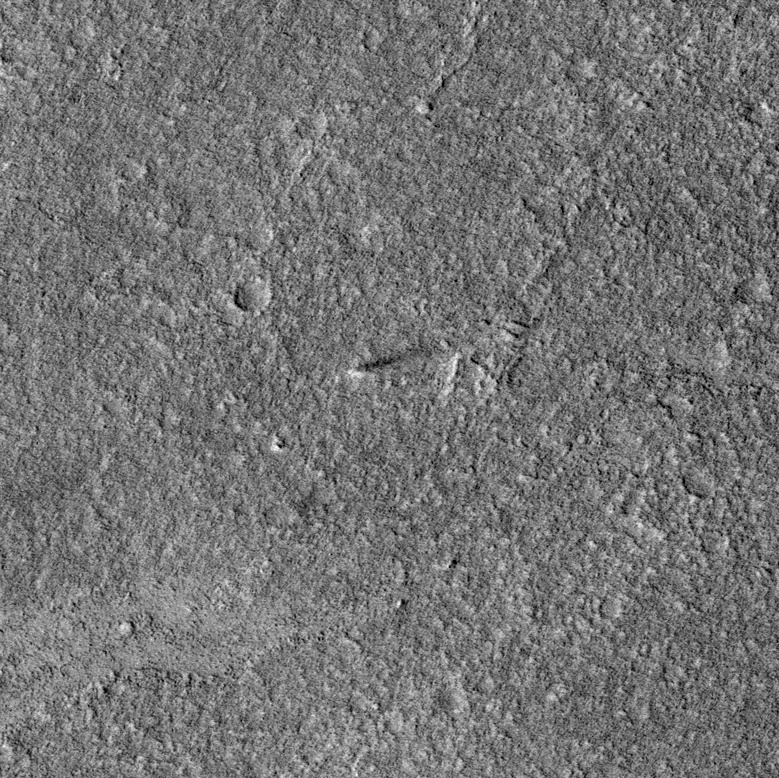dust_devil: (345, 344, 432, 380)
